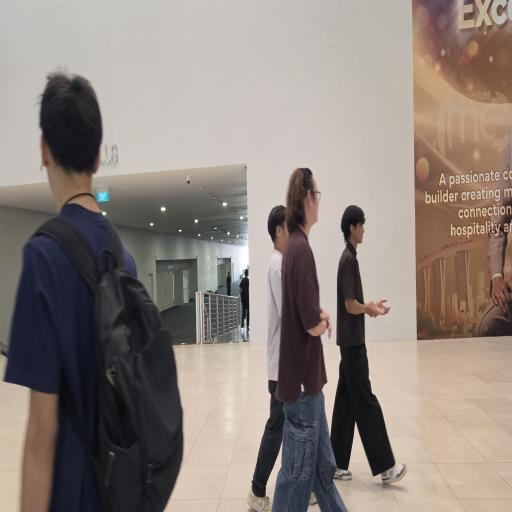person_right: (327, 189, 412, 492), (279, 149, 339, 512), (250, 194, 292, 510)
